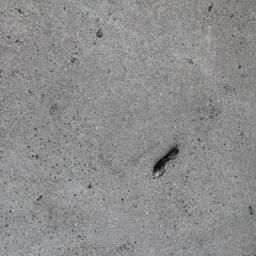FOD: (150, 143, 185, 180)
